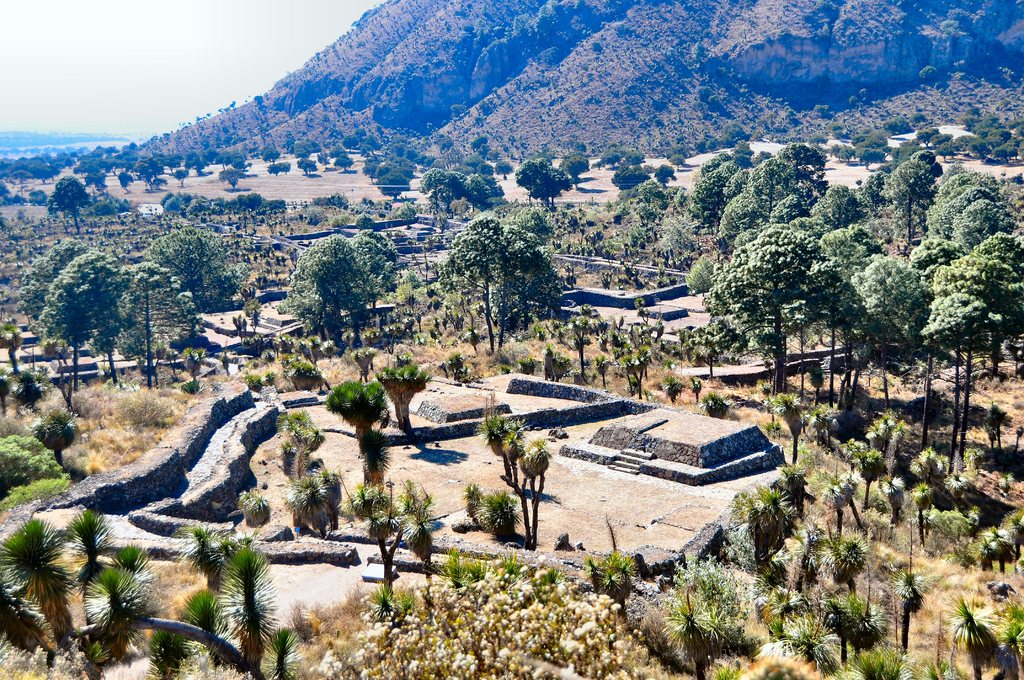Tree: (608, 140, 1023, 477), (587, 376, 1023, 679), (13, 226, 254, 395), (434, 216, 573, 355), (261, 132, 512, 194), (282, 229, 398, 351), (830, 101, 1023, 172), (342, 475, 440, 609), (0, 142, 250, 192), (461, 412, 548, 549), (0, 512, 77, 644), (80, 544, 153, 649), (226, 544, 277, 660), (282, 470, 346, 540), (326, 379, 391, 445), (592, 146, 674, 196), (369, 359, 424, 432), (174, 521, 226, 598), (0, 434, 62, 498), (420, 172, 504, 216), (181, 585, 225, 667), (69, 507, 119, 573), (32, 402, 78, 469), (514, 155, 573, 205), (281, 412, 323, 480), (48, 170, 92, 227), (142, 626, 184, 679), (234, 485, 273, 528), (356, 434, 387, 486), (267, 624, 295, 679)
